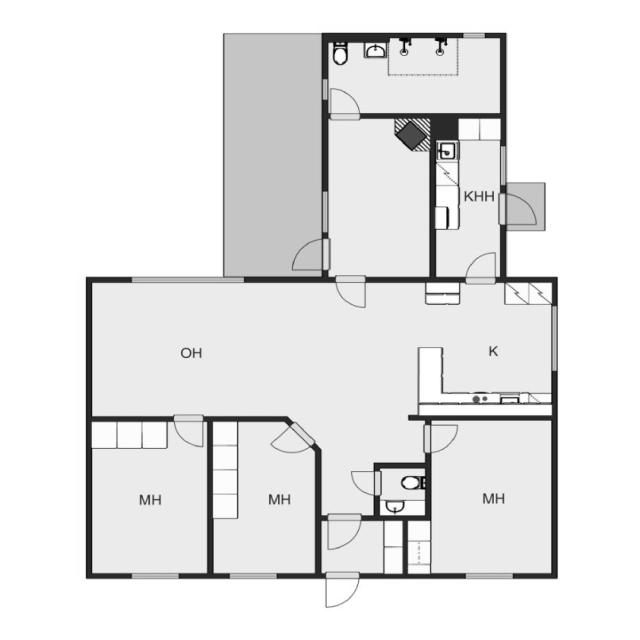door: (325, 113, 433, 282), (322, 35, 506, 117), (321, 571, 362, 609), (286, 238, 330, 272), (170, 412, 208, 451), (323, 513, 362, 551), (422, 420, 461, 455), (463, 249, 498, 285), (334, 276, 368, 310), (348, 468, 380, 498)
window: (125, 272, 251, 287), (546, 304, 564, 376), (327, 84, 360, 120), (459, 569, 517, 583), (223, 569, 282, 582), (125, 570, 183, 582), (496, 142, 510, 189), (319, 188, 331, 234), (318, 76, 330, 104), (458, 30, 488, 41)
zone: (88, 276, 422, 414), (417, 415, 555, 575), (88, 418, 210, 576), (324, 115, 432, 280), (420, 280, 554, 412), (211, 417, 316, 575), (323, 33, 506, 115), (432, 116, 502, 279), (319, 518, 403, 576), (374, 464, 428, 518), (495, 190, 545, 229), (328, 86, 360, 118)
